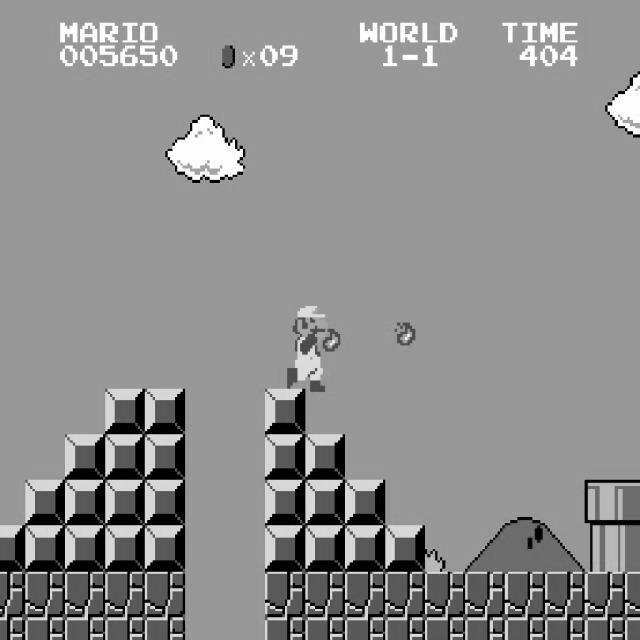14- pipe: (584, 526, 626, 572), (625, 526, 640, 572)
15- pipe_head: (584, 480, 626, 526), (625, 480, 640, 526)
17- undestructible_block: (24, 572, 66, 618), (64, 572, 106, 618), (104, 572, 146, 618), (144, 572, 186, 618), (264, 572, 306, 618), (304, 572, 346, 618), (344, 572, 386, 618), (384, 572, 426, 618), (424, 572, 466, 618), (464, 572, 506, 618), (504, 572, 546, 618), (544, 572, 586, 618), (584, 572, 626, 618), (0, 571, 25, 617), (24, 617, 66, 640), (64, 617, 106, 640), (104, 617, 146, 640), (144, 617, 186, 640), (264, 617, 306, 640), (304, 617, 346, 640), (344, 617, 386, 640), (384, 617, 426, 640), (424, 617, 466, 640), (464, 617, 506, 640), (504, 617, 546, 640), (544, 617, 586, 640), (584, 617, 626, 640), (625, 572, 640, 618), (0, 617, 25, 639), (625, 617, 640, 640)
4- fire_mario: (284, 298, 328, 392)
5- fireball: (395, 320, 415, 346), (320, 326, 340, 352)
9- hard_block: (24, 480, 66, 526), (24, 526, 66, 572), (64, 434, 106, 480), (64, 480, 106, 526), (64, 526, 106, 572), (104, 388, 146, 434), (104, 434, 146, 480), (104, 480, 146, 526), (104, 526, 146, 572), (144, 388, 186, 434), (144, 434, 186, 480), (144, 480, 186, 526), (144, 526, 186, 572), (264, 388, 306, 434), (264, 434, 306, 480), (264, 480, 306, 526), (264, 526, 306, 572), (304, 434, 346, 480), (304, 480, 346, 526), (304, 526, 346, 572), (344, 480, 386, 526), (344, 526, 386, 572), (384, 526, 426, 572), (0, 525, 25, 571)
